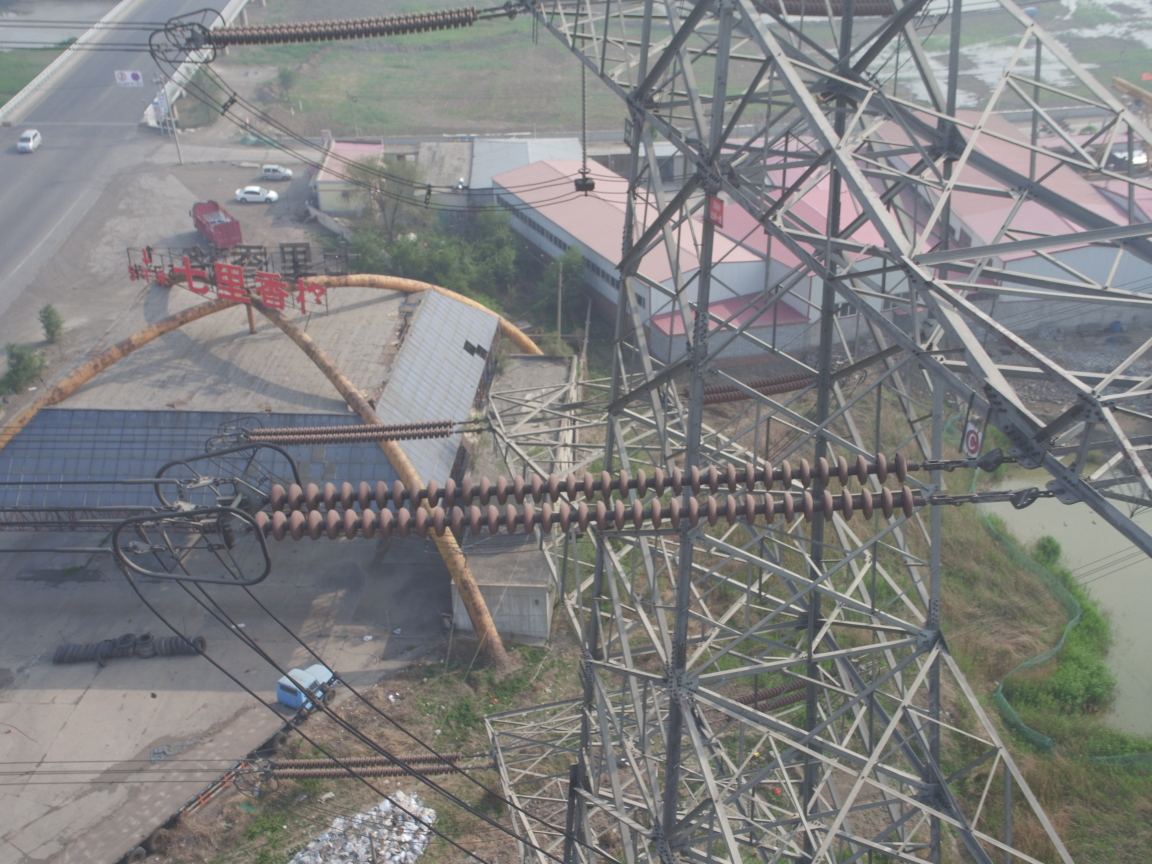insulator: (243, 450, 964, 542), (210, 2, 478, 48), (243, 417, 472, 444), (272, 752, 470, 782)
